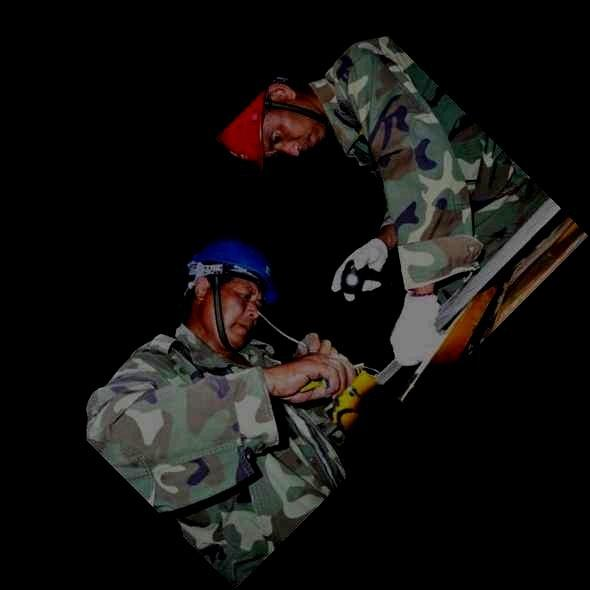helmet: (182, 239, 278, 347), (220, 79, 326, 163)
